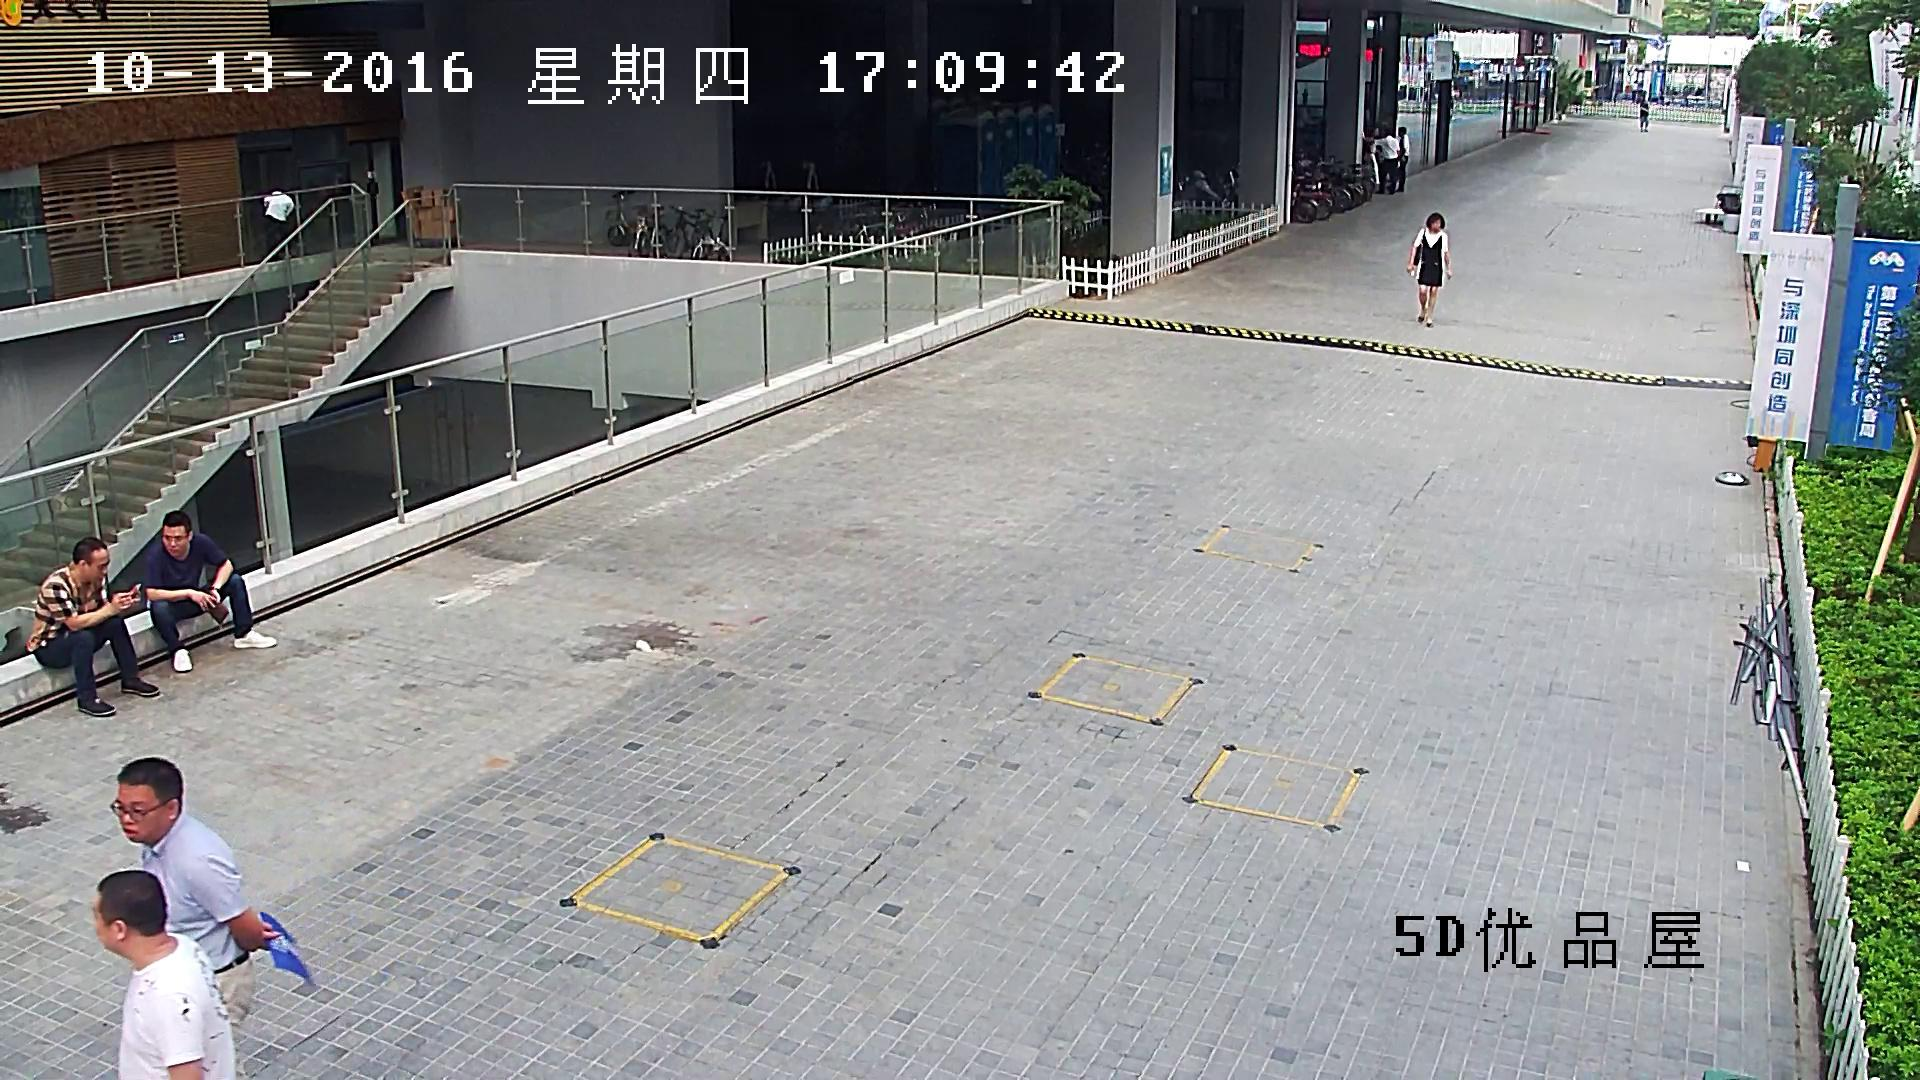person: (110, 756, 313, 1080), (111, 757, 314, 1080), (92, 870, 237, 1080), (27, 536, 160, 717), (145, 511, 278, 672), (1406, 211, 1453, 326), (1362, 127, 1400, 195), (264, 191, 295, 260), (1397, 127, 1408, 192), (1639, 100, 1648, 132), (1632, 80, 1638, 101)
